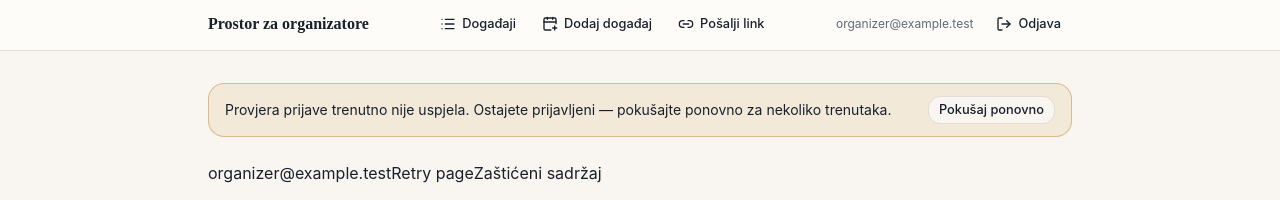
persistent organizer layout session lifecycle › 429 retains the session and recovers on retry
This screenshot has width=1280, height=200.
Click the button "Pokušaj ponovno" at (991, 110), box [928, 96, 1055, 124]
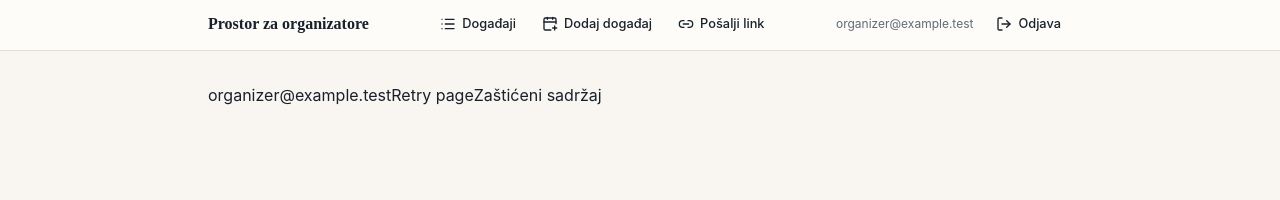
expect the text "Zaštićeni sadržaj" is shown: met, box [474, 85, 602, 105]
expect the text "Provjera prijave trenutno nije uspjela" is gone: met
